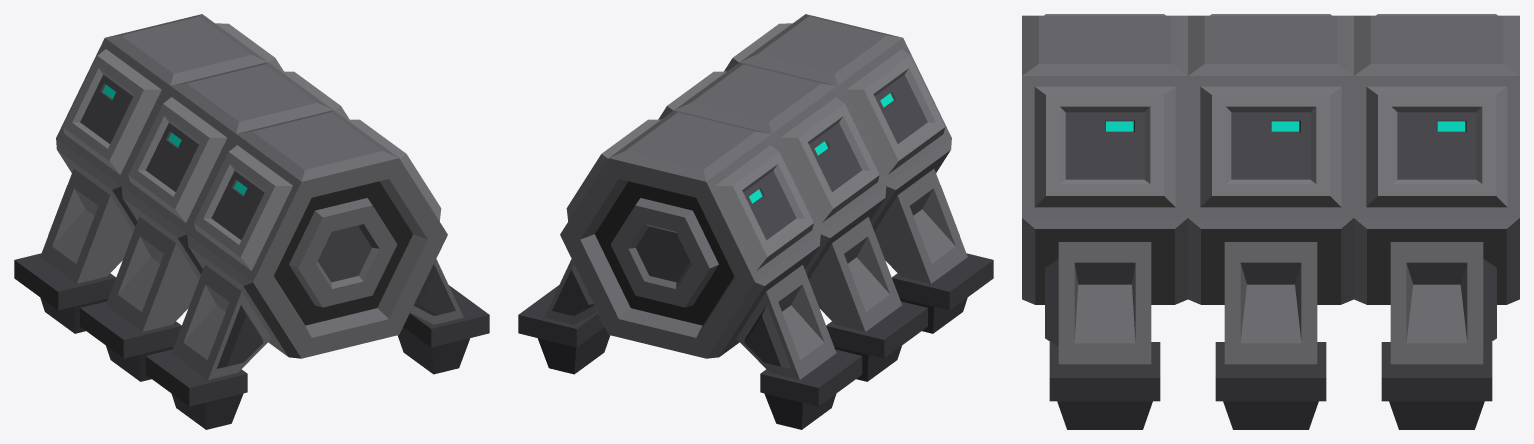
File: SM_Prop_Battery_03.glb
3 renders of one model, left to right at view 1: azimuth 30°, elevation 25°; view 2: azimuth 150°, elevation 25°; view 3: azimuth 270°, elevation 25°, orthographic. The views are drawn at different scales.
Parts seen in each view (by area): view 1: SM_Prop_Battery_03; view 2: SM_Prop_Battery_03; view 3: SM_Prop_Battery_03.
Part boxes in pixels (x1,y1,x2,y2): SM_Prop_Battery_03: (14,14,489,429); SM_Prop_Battery_03: (518,14,993,429); SM_Prop_Battery_03: (1022,14,1519,429).
Size of the model in its own units: 1.81 by 1.43 by 2.06.
Materials: 1 (1 with a texture image).
